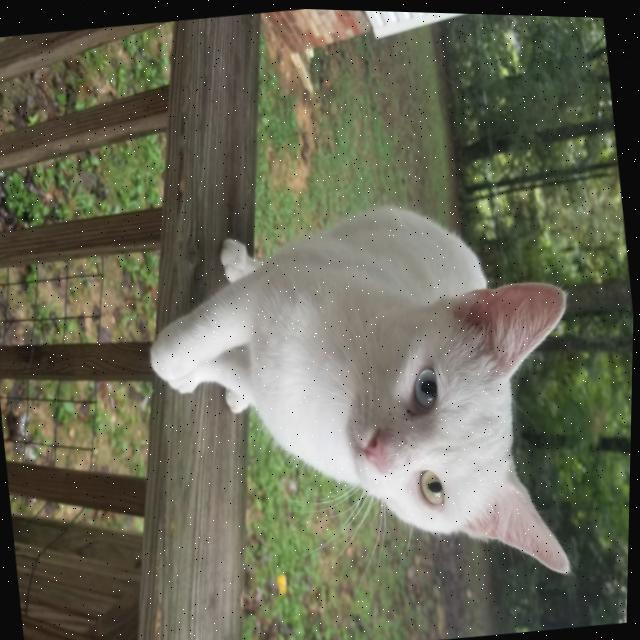Khao Manee: (126, 169, 609, 625)
